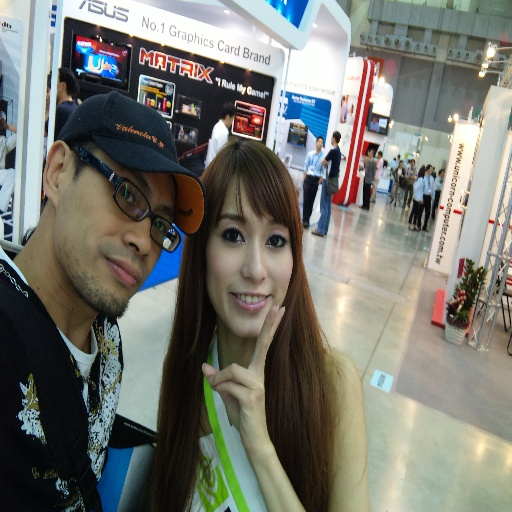hand: (203, 302, 285, 441)
